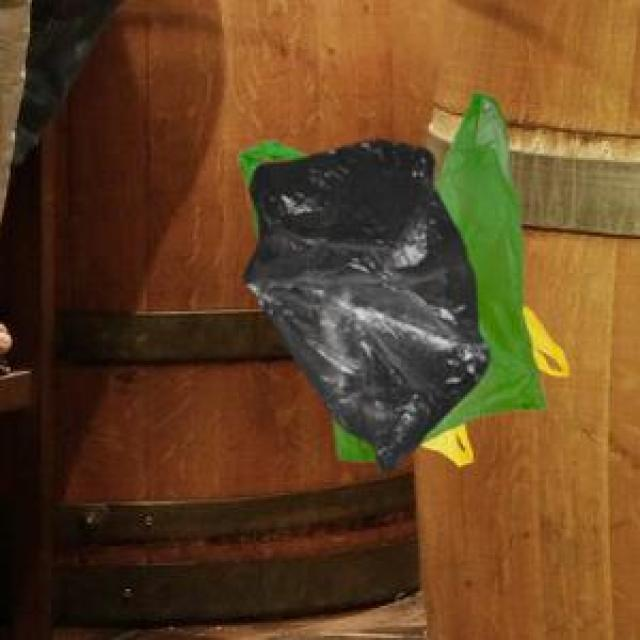waste: (240, 94, 545, 468)
